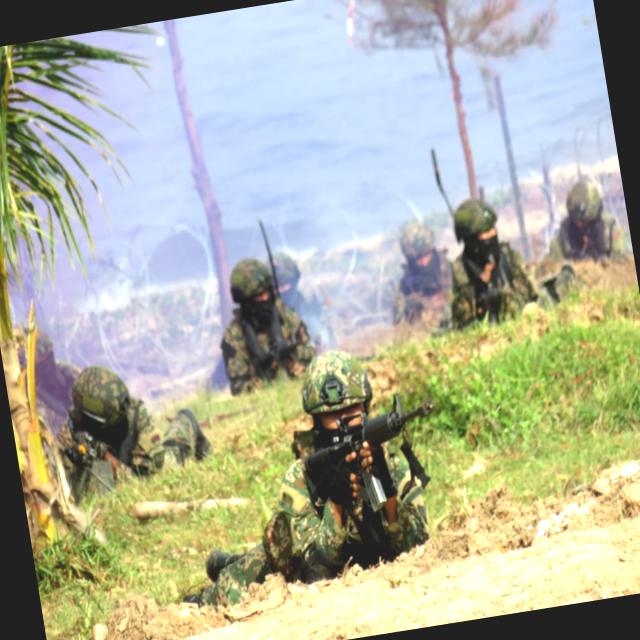m16: (226, 310, 468, 580)
